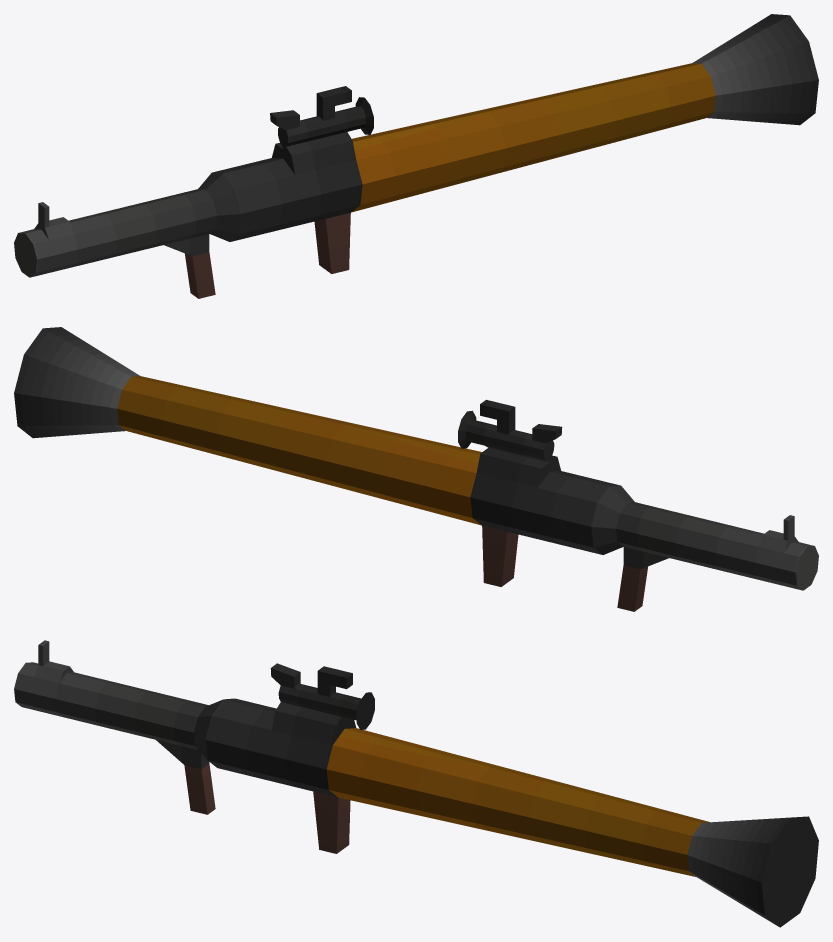
File: Rocket.fbx
The picture shows the model from 3 angles, top to bottom: view 1: azimuth 30°, elevation 25°; view 2: azimuth 150°, elevation 25°; view 3: azimuth 330°, elevation 25°; orthographic projection.
Parts seen in each view (by area): view 1: Rocket; view 2: Rocket; view 3: Rocket.
Boxes of the visible parts, bbox=[...] form: Rocket: bbox=[14, 14, 818, 298]; Rocket: bbox=[14, 327, 818, 611]; Rocket: bbox=[14, 640, 818, 927].
Size of the model in its own units: 352 by 77.11 by 45.87.
